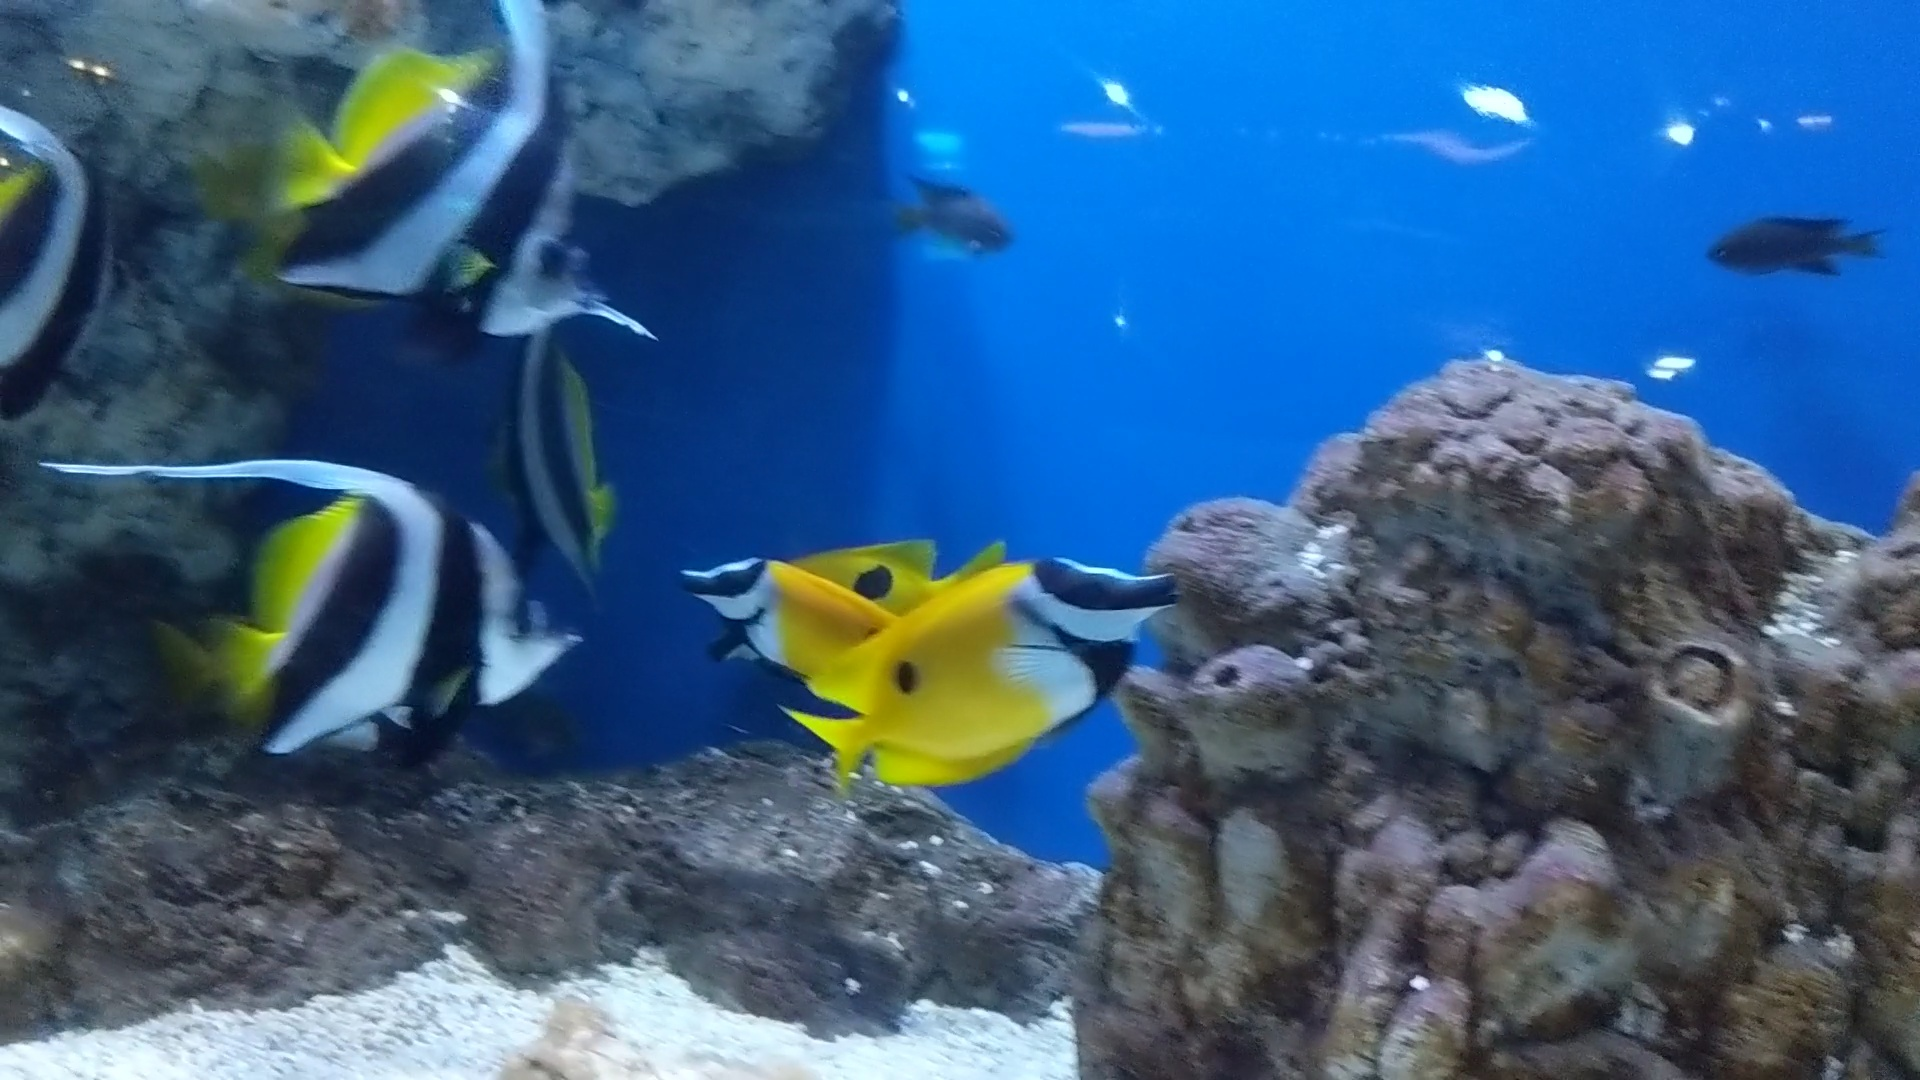moorfish: (34, 429, 603, 800), (247, 3, 634, 348), (487, 309, 634, 596)
rabbitfish: (793, 549, 1172, 777), (669, 549, 882, 684)
